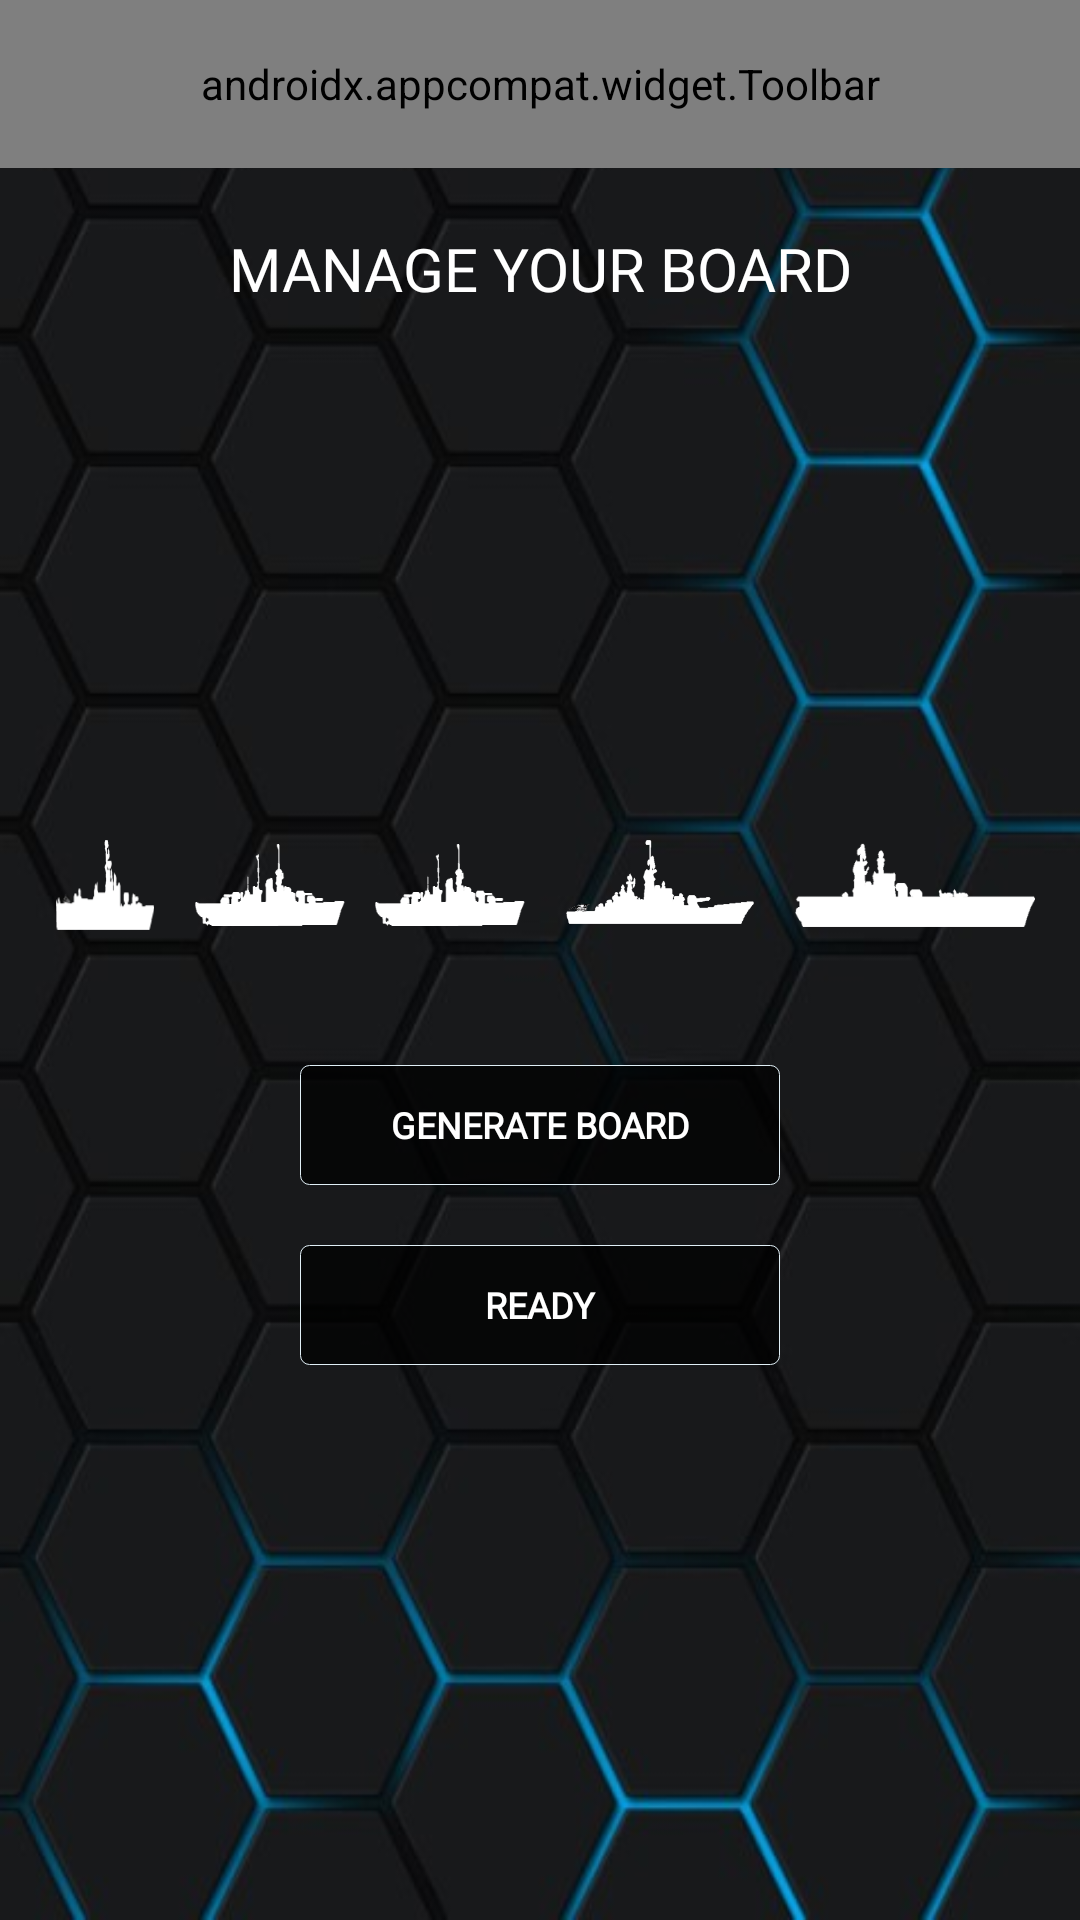

Where icons sit on this 1080px x 1920px app screen, as (x1=x1, y1=y1, x2=x2, y2=y2):
ship: (x1=56, y1=840, x2=154, y2=930), (x1=566, y1=840, x2=754, y2=924), (x1=795, y1=843, x2=1035, y2=927), (x1=195, y1=844, x2=345, y2=926), (x1=375, y1=844, x2=525, y2=926)
